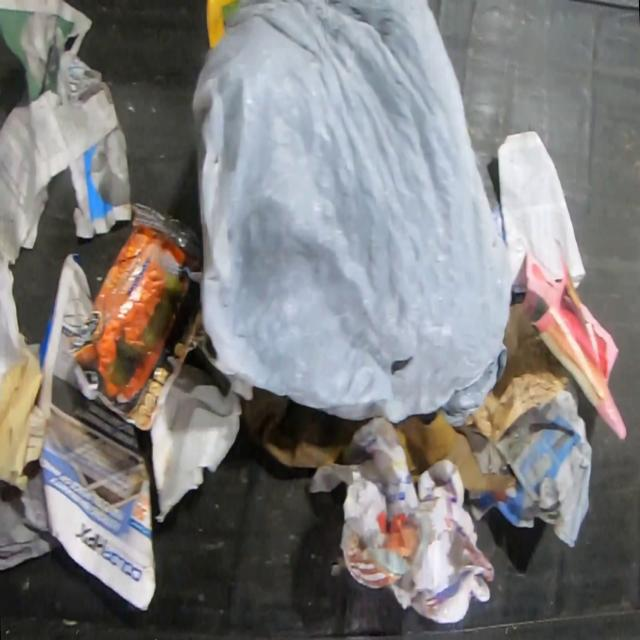cardboard: (241, 383, 366, 468), (395, 412, 516, 496)
soft_plastic: (192, 0, 514, 426), (69, 202, 209, 433)
